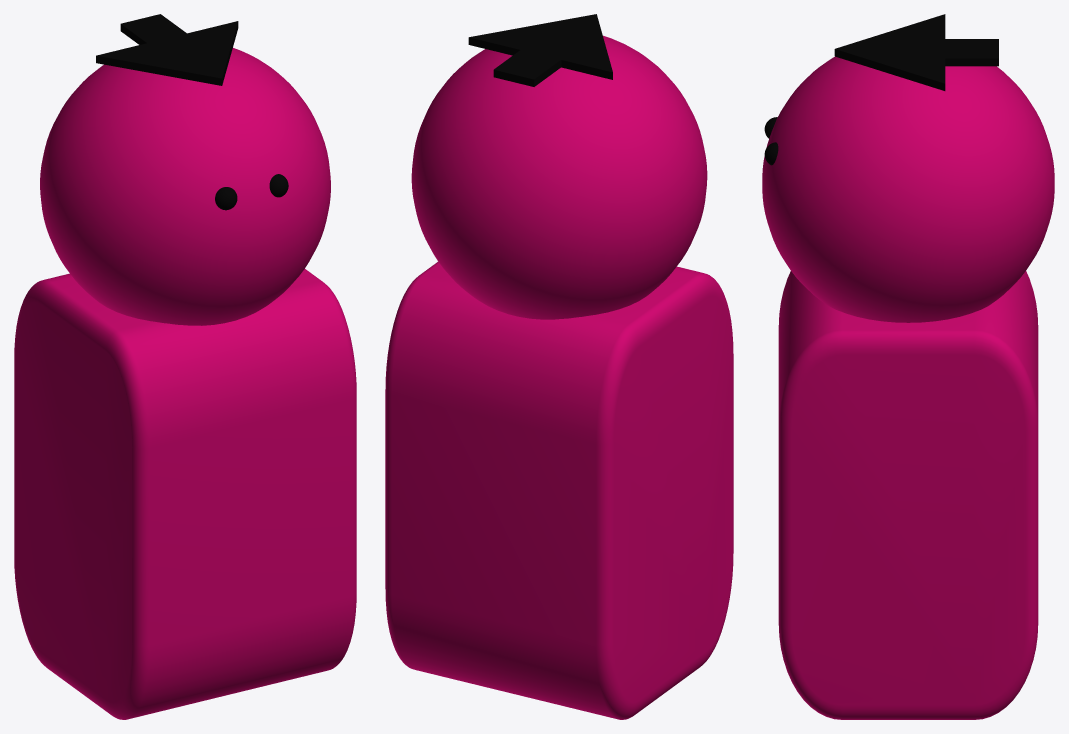
Rendered from 2pink.obj.
3 renders of one model, left to right at view 1: azimuth 30°, elevation 25°; view 2: azimuth 150°, elevation 25°; view 3: azimuth 270°, elevation 25°, orthographic.
Parts seen in each view (by area): view 1: Curve.002_Curve.015, Curve.002_Curve.016; view 2: Curve.002_Curve.015, Curve.002_Curve.016; view 3: Curve.002_Curve.015, Curve.002_Curve.016.
Part boxes in pixels (left/top/right/bottom): Curve.002_Curve.015: left=14, top=48, right=356, bottom=719; Curve.002_Curve.016: left=96, top=14, right=288, bottom=210; Curve.002_Curve.015: left=385, top=35, right=733, bottom=719; Curve.002_Curve.016: left=468, top=14, right=612, bottom=86; Curve.002_Curve.015: left=762, top=56, right=1054, bottom=719; Curve.002_Curve.016: left=764, top=14, right=998, bottom=165.
Bounding box in the file's own units: 0.2062 × 0.4819 × 0.2057.
